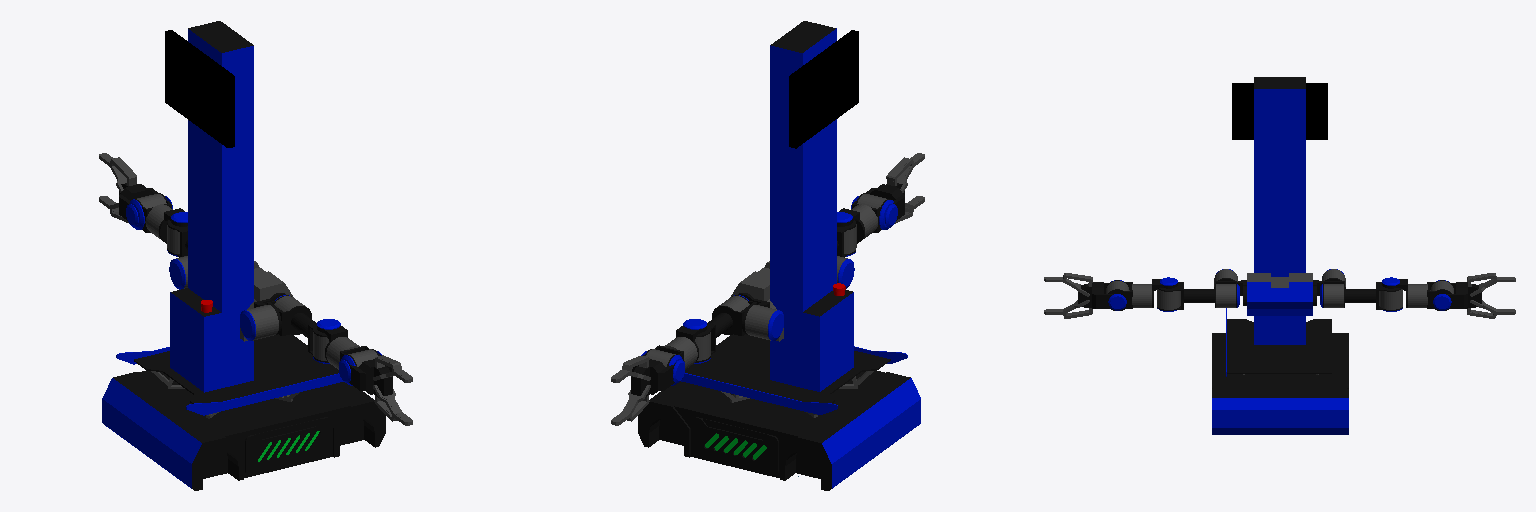
--- Render facts (derived) ---
The picture shows the robot from 3 angles, left to right: view 1: azimuth 30°, elevation 25°; view 2: azimuth 150°, elevation 25°; view 3: azimuth 270°, elevation 25°; orthographic projection.
Robot: wpr2 — 32 links, 31 joints (1 revolute, 16 continuous, 2 prismatic, 12 fixed); root link base_footprint; default pose: every joint at zero.
Visible links, largest first — view 1: base_link, right_link_finger, left_link_finger, right_link_1, right_link_4, left_link_4, right_link_3, chest_link, right_link_6, right_link_2, left_link_3, left_link_5; view 2: base_link, left_link_finger, left_link_1, right_link_finger, left_link_4, left_link_3, right_link_4, chest_link, left_link_2, right_link_6, right_link_5, right_link_3; view 3: base_link, chest_link, right_link_6, left_link_6, left_link_3, right_link_3, left_link_4, right_link_4, left_link_2, right_link_2.
Boxes of the visible links, box(x1,y1,x2,y2) form: base_link: box(102, 21, 385, 490); right_link_finger: box(339, 357, 410, 425); left_link_finger: box(99, 153, 138, 227); right_link_1: box(240, 293, 285, 340); right_link_4: box(317, 319, 359, 369); left_link_4: box(145, 204, 187, 243); right_link_3: box(291, 313, 329, 363); chest_link: box(240, 261, 292, 341); right_link_6: box(366, 351, 412, 425); right_link_2: box(267, 295, 311, 335); left_link_3: box(167, 220, 187, 257); left_link_5: box(130, 193, 171, 232); base_link: box(638, 21, 920, 490); left_link_finger: box(612, 356, 684, 425); left_link_1: box(738, 293, 783, 340); right_link_finger: box(877, 153, 924, 227); left_link_4: box(664, 319, 706, 369); left_link_3: box(694, 313, 732, 363); right_link_4: box(837, 204, 877, 243); chest_link: box(731, 261, 783, 341); left_link_2: box(712, 295, 756, 335); right_link_6: box(851, 153, 923, 214); right_link_5: box(852, 193, 893, 232); right_link_3: box(837, 220, 856, 257); base_link: box(1212, 77, 1348, 434); chest_link: box(1247, 273, 1312, 315); right_link_6: box(1044, 273, 1126, 318); left_link_6: box(1433, 273, 1515, 318); left_link_3: box(1345, 282, 1402, 311); right_link_3: box(1157, 282, 1214, 311); left_link_4: box(1382, 277, 1427, 307); right_link_4: box(1132, 277, 1177, 307); left_link_2: box(1320, 281, 1344, 307); right_link_2: box(1215, 281, 1239, 307).
Bounding box of the posed robot: 0.57 × 1.57 × 1.15 m (x, y, z).
17 mesh visuals loaded from 11 distinct referenced files (9 Collada DAE); not drawn: 4 (file found but could not be loaded).

The robot description file, URDF, robot "wpr2":
<?xml version="1.0" ?>
<!-- =================================================================================== -->
<!-- |    This document was autogenerated by xacro from [local-path]/catkin_ws/src/wpr2/wpr2_description/urdf/wpr2.urdf.xacro | -->
<!-- |    EDITING THIS FILE BY HAND IS NOT RECOMMENDED                                 | -->
<!-- =================================================================================== -->
<robot name="wpr2">
    <material name="black">
        <color rgba="0 0 0 1" />
    </material>
    <!-- base_footprint -->
    <link name="base_footprint">
        <visual>
            <origin rpy="0 0 0" xyz="0 0 0" />
            <geometry>
                <box size="0.001 0.001 0.001" />
            </geometry>
            <material name="TransparentGreen" />
        </visual>
    </link>
    <joint name="base_joint" type="fixed">
        <origin rpy="0 0 0" xyz="0 0 0.02" />
        <parent link="base_footprint" />
        <child link="base_link" />
    </joint>
    <!-- base_link -->
    <link name="base_link">
        <visual>
            <geometry>
                <mesh filename="package://wpr2_description/meshes/base.dae" scale="1 1 1" />
            </geometry>
            <origin rpy="0 0 0" xyz="0.0 0.0 0.13" />
        </visual>
        <visual>
            <geometry>
                <box size="0.02 0.32 0.2" />
            </geometry>
            <origin rpy="0 0 0" xyz="-0.13 0.0 1.0" />
            <material name="black" />
        </visual>
        <!-- 底盘碰撞体 -->
        <collision>
            <origin rpy="0 0 0" xyz="0.005 0 0.07" />
            <geometry>
                <box size="0.57 0.46 0.12" />
            </geometry>
        </collision>
        <!-- 上舱盖 -->
        <collision>
            <origin rpy="0 0 0" xyz="-0.03 0 0.20" />
            <geometry>
                <box size="0.50 0.37 0.04" />
            </geometry>
        </collision>
        <!-- 立柱 -->
        <collision>
            <origin rpy="0 0 0" xyz="-0.07 0 0.68" />
            <geometry>
                <box size="0.10 0.20 0.90" />
            </geometry>
        </collision>
        <!-- 屏幕 -->
        <collision>
            <origin rpy="0 0 0" xyz="-0.13 0.0 1.0" />
            <geometry>
                <box size="0.02 0.32 0.2" />
            </geometry>
        </collision>
        <inertial>
            <mass value="20" />
            <inertia ixx="10" ixy="0.0" ixz="0.0" iyy="10" iyz="0.0" izz="10" />
            <origin xyz="0 0 0" rpy="0 0 0" />
        </inertial>
    </link>
    <link name="front_left_wheel_link">
        <visual>
            <origin rpy="1.570796327 0 0" xyz="0.0 0.06 0.0" />
            <geometry>
                <mesh filename="package://wpr2_description/meshes/mecanum_a.dae" scale="1 1 1" />
            </geometry>
        </visual>
        <collision>
            <origin rpy="1.570796327 0 0" xyz="0 0.029 0" />
            <geometry>
                <cylinder length="0.058" radius="0.001" />
            </geometry>
        </collision>
        <inertial>
            <mass value="0.00001" />
            <inertia ixx="0.1" ixy="0.0" ixz="0.0" iyy="0.1" iyz="0.0" izz="0.1" />
            <origin xyz="0 0 0" rpy="0 0 0" />
        </inertial>
    </link>
    <joint name="front_left_wheel_joint" type="continuous">
        <parent link="base_link" />
        <child link="front_left_wheel_link" />
        <origin rpy="0 0.0 0.0" xyz="0.1975   0.185  0.029" />
        <axis xyz="0 1 0" />
    </joint>
    <transmission name="front_left_transmission">
        <type>transmission_interface/SimpleTransmission</type>
        <joint name="front_left_wheel_joint">
            <hardwareInterface>hardware_interface/PositionJointInterface</hardwareInterface>
        </joint>
        <actuator name="front_left_motor">
            <hardwareInterface>PositionJointInterface</hardwareInterface>
            <mechanicalReduction>1</mechanicalReduction>
        </actuator>
    </transmission>
    <link name="front_right_wheel_link">
        <visual>
            <origin rpy="1.570796327 0 0" xyz="0.0 0.06 0.0" />
            <geometry>
                <mesh filename="package://wpr2_description/meshes/mecanum_b.dae" scale="1 1 1" />
            </geometry>
        </visual>
        <collision>
            <origin rpy="1.570796327 0 0" xyz="0 0.029 0" />
            <geometry>
                <cylinder length="0.058" radius="0.001" />
            </geometry>
        </collision>
        <inertial>
            <mass value="0.00001" />
            <inertia ixx="0.1" ixy="0.0" ixz="0.0" iyy="0.1" iyz="0.0" izz="0.1" />
            <origin xyz="0 0 0" rpy="0 0 0" />
        </inertial>
    </link>
    <joint name="front_right_wheel_joint" type="continuous">
        <parent link="base_link" />
        <child link="front_right_wheel_link" />
        <origin rpy="3.141592653589793 0.0 0.0" xyz="0.1975   -0.185  0.029" />
        <axis xyz="0 1 0" />
    </joint>
    <transmission name="front_right_transmission">
        <type>transmission_interface/SimpleTransmission</type>
        <joint name="front_right_wheel_joint">
            <hardwareInterface>hardware_interface/PositionJointInterface</hardwareInterface>
        </joint>
        <actuator name="front_right_motor">
            <hardwareInterface>PositionJointInterface</hardwareInterface>
            <mechanicalReduction>1</mechanicalReduction>
        </actuator>
    </transmission>
    <link name="back_right_wheel_link">
        <visual>
            <origin rpy="1.570796327 0 0" xyz="0.0 0.06 0.0" />
            <geometry>
                <mesh filename="package://wpr2_description/meshes/mecanum_a.dae" scale="1 1 1" />
            </geometry>
        </visual>
        <collision>
            <origin rpy="1.570796327 0 0" xyz="0 0.029 0" />
            <geometry>
                <cylinder length="0.058" radius="0.001" />
            </geometry>
        </collision>
        <inertial>
            <mass value="0.00001" />
            <inertia ixx="0.1" ixy="0.0" ixz="0.0" iyy="0.1" iyz="0.0" izz="0.1" />
            <origin xyz="0 0 0" rpy="0 0 0" />
        </inertial>
    </link>
    <joint name="back_right_wheel_joint" type="continuous">
        <parent link="base_link" />
        <child link="back_right_wheel_link" />
        <origin rpy="3.141592653589793 0.0 0.0" xyz="-0.1975   -0.185  0.029" />
        <axis xyz="0 1 0" />
    </joint>
    <transmission name="back_right_transmission">
        <type>transmission_interface/SimpleTransmission</type>
        <joint name="back_right_wheel_joint">
            <hardwareInterface>hardware_interface/PositionJointInterface</hardwareInterface>
        </joint>
        <actuator name="back_right_motor">
            <hardwareInterface>PositionJointInterface</hardwareInterface>
            <mechanicalReduction>1</mechanicalReduction>
        </actuator>
    </transmission>
    <link name="back_left_wheel_link">
        <visual>
            <origin rpy="1.570796327 0 0" xyz="0.0 0.06 0.0" />
            <geometry>
                <mesh filename="package://wpr2_description/meshes/mecanum_b.dae" scale="1 1 1" />
            </geometry>
        </visual>
        <collision>
            <origin rpy="1.570796327 0 0" xyz="0 0.029 0" />
            <geometry>
                <cylinder length="0.058" radius="0.001" />
            </geometry>
        </collision>
        <inertial>
            <mass value="0.00001" />
            <inertia ixx="0.1" ixy="0.0" ixz="0.0" iyy="0.1" iyz="0.0" izz="0.1" />
            <origin xyz="0 0 0" rpy="0 0 0" />
        </inertial>
    </link>
    <joint name="back_left_wheel_joint" type="continuous">
        <parent link="base_link" />
        <child link="back_left_wheel_link" />
        <origin rpy="0 0.0 0.0" xyz="-0.1975   0.185  0.029" />
        <axis xyz="0 1 0" />
    </joint>
    <transmission name="back_left_transmission">
        <type>transmission_interface/SimpleTransmission</type>
        <joint name="back_left_wheel_joint">
            <hardwareInterface>hardware_interface/PositionJointInterface</hardwareInterface>
        </joint>
        <actuator name="back_left_motor">
            <hardwareInterface>PositionJointInterface</hardwareInterface>
            <mechanicalReduction>1</mechanicalReduction>
        </actuator>
    </transmission>
    <link name="front_left_foot_link">
        <visual>
            <origin rpy="0 0 0" xyz="0.0 0.0 0.0" />
            <geometry>
                <box size="0.001 0.001 0.001" />
            </geometry>
        </visual>
        <collision>
            <origin rpy="0 0 0" xyz="0 0 0" />
            <geometry>
                <cylinder length="0.01" radius="0.05" />
            </geometry>
        </collision>
        <inertial>
            <mass value="0.1" />
            <inertia ixx="1" ixy="0.0" ixz="0.0" iyy="1" iyz="0.0" izz="1" />
            <origin xyz="0 0 0" rpy="0 0 0" />
        </inertial>
    </link>
    <joint name="front_left_foot_joint" type="fixed">
        <parent link="base_link" />
        <child link="front_left_foot_link" />
        <origin rpy="1.57 0.0 0.0" xyz="0.1975   0.24666666666666667  0.029" />
    </joint>
    <link name="front_right_foot_link">
        <visual>
            <origin rpy="0 0 0" xyz="0.0 0.0 0.0" />
            <geometry>
                <box size="0.001 0.001 0.001" />
            </geometry>
        </visual>
        <collision>
            <origin rpy="0 0 0" xyz="0 0 0" />
            <geometry>
                <cylinder length="0.01" radius="0.05" />
            </geometry>
        </collision>
        <inertial>
            <mass value="0.1" />
            <inertia ixx="1" ixy="0.0" ixz="0.0" iyy="1" iyz="0.0" izz="1" />
            <origin xyz="0 0 0" rpy="0 0 0" />
        </inertial>
    </link>
    <joint name="front_right_foot_joint" type="fixed">
        <parent link="base_link" />
        <child link="front_right_foot_link" />
        <origin rpy="1.57 0.0 0.0" xyz="0.1975   -0.24666666666666667  0.029" />
    </joint>
    <link name="back_right_foot_link">
        <visual>
            <origin rpy="0 0 0" xyz="0.0 0.0 0.0" />
            <geometry>
                <box size="0.001 0.001 0.001" />
            </geometry>
        </visual>
        <collision>
            <origin rpy="0 0 0" xyz="0 0 0" />
            <geometry>
                <cylinder length="0.01" radius="0.05" />
            </geometry>
        </collision>
        <inertial>
            <mass value="0.1" />
            <inertia ixx="1" ixy="0.0" ixz="0.0" iyy="1" iyz="0.0" izz="1" />
            <origin xyz="0 0 0" rpy="0 0 0" />
        </inertial>
    </link>
    <joint name="back_right_foot_joint" type="fixed">
        <parent link="base_link" />
        <child link="back_right_foot_link" />
        <origin rpy="1.57 0.0 0.0" xyz="-0.1975   -0.24666666666666667  0.029" />
    </joint>
    <link name="back_left_foot_link">
        <visual>
            <origin rpy="0 0 0" xyz="0.0 0.0 0.0" />
            <geometry>
                <box size="0.001 0.001 0.001" />
            </geometry>
        </visual>
        <collision>
            <origin rpy="0 0 0" xyz="0 0 0" />
            <geometry>
                <cylinder length="0.01" radius="0.05" />
            </geometry>
        </collision>
        <inertial>
            <mass value="0.1" />
            <inertia ixx="1" ixy="0.0" ixz="0.0" iyy="1" iyz="0.0" izz="1" />
            <origin xyz="0 0 0" rpy="0 0 0" />
        </inertial>
    </link>
    <joint name="back_left_foot_joint" type="fixed">
        <parent link="base_link" />
        <child link="back_left_foot_link" />
        <origin rpy="1.57 0.0 0.0" xyz="-0.1975   0.24666666666666667  0.029" />
    </joint>
    <!-- Lidar -->
    <link name="laser">
        <visual>
            <geometry>
                <cylinder length="0.001" radius="0.001" />
            </geometry>
            <origin rpy="0 0 0" xyz="0 0 0" />
        </visual>
    </link>
    <joint name="laser_joint" type="fixed">
        <origin rpy="0 0 3.1415926" xyz="0 0 0.16" />
        <parent link="base_link" />
        <child link="laser" />
    </joint>
    <!-- Gazebo plugin for RpLidar C1 -->
    <gazebo reference="laser">
        <sensor name="rplidar_sensor" type="ray">
            <pose>0 0 0.06 0 0 0</pose>
            <visualize>false</visualize>
            <update_rate>10</update_rate>
            <ray>
                <scan>
                    <horizontal>
                        <samples>720</samples>
                        <resolution>1</resolution>
                        <min_angle>-3.14159265</min_angle>
                        <max_angle>3.14159265</max_angle>
                    </horizontal>
                </scan>
                <range>
                    <min>0.02</min>
                    <max>10.0</max>
                    <resolution>0.01</resolution>
                </range>
                <!-- <noise>
          <type>gaussian</type>
          <mean>0.0</mean>
          <stddev>0.01</stddev>
        </noise> -->
            </ray>
            <plugin filename="libgazebo_ros_laser.so" name="rplidar_ros_controller">
                <topicName>scan_raw</topicName>
                <frameName>laser</frameName>
            </plugin>
        </sensor>
        <plugin name="gazebo_ros_control" filename="libgazebo_ros_control.so">
            <robotNamespace>/</robotNamespace>
        </plugin>
    </gazebo>
    <link name="chest_link">
        <visual>
            <geometry>
                <mesh filename="package://wpr2_description/meshes/chest.dae" scale=" 1 1 1 " />
            </geometry>
            <origin rpy="0 0 0" xyz="0.015 0.0 0.01" />
        </visual>
        <collision>
            <origin rpy="0 0 0" xyz="0.04 0 -0.01" />
            <geometry>
                <box size="0.1 0.22 0.15" />
            </geometry>
        </collision>
        <inertial>
            <mass value="1" />
            <inertia ixx="0.1" ixy="0.0" ixz="0.0" iyy="0.1" iyz="0.0" izz="0.01" />
            <origin xyz="0 0 0" rpy="0 0 0" />
        </inertial>
    </link>
    <joint name="chest_height" type="prismatic">
        <parent link="base_link" />
        <child link="chest_link" />
        <limit effort="1000.0" lower="0" upper="0.7" velocity="0.5" />
        <dynamics damping="0.0" friction="0.0" />
        <origin rpy="0 0 0" xyz="0.0 0 0.4" />
        <axis xyz="0 0 1" />
    </joint>
    <transmission name="chest_height_transmission">
        <type>transmission_interface/SimpleTransmission</type>
        <joint name="chest_height">
            <hardwareInterface>hardware_interface/PositionJointInterface</hardwareInterface>
        </joint>
        <actuator name="chest_height_motor">
            <hardwareInterface>PositionJointInterface</hardwareInterface>
            <mechanicalReduction>1</mechanicalReduction>
        </actuator>
    </transmission>
    <!-- Camera -->
    <link name="femto_base">
        <visual>
            <origin rpy="0 0 0" xyz="0 0 0" />
            <geometry>
                <!-- <box size=".1 .25 .07"/> -->
                <box size="0 0 0" />
            </geometry>
        </visual>
        <inertial>
            <mass value="0.1" />
            <inertia ixx="0.1" ixy="0.0" ixz="0.0" iyy="0.1" iyz="0.0" izz="0.01" />
        </inertial>
    </link>
    <joint name="femto_height" type="prismatic">
        <parent link="chest_link" />
        <child link="femto_base" />
        <limit effort="1000.0" lower="0" upper="0.1" velocity="0.5" />
        <origin rpy="0 -1.5707963 0" xyz="0.05 0 0" />
    </joint>
    <transmission name="femto_height_transmission">
        <type>transmission_interface/SimpleTransmission</type>
        <joint name="femto_height">
            <hardwareInterface>hardware_interface/PositionJointInterface</hardwareInterface>
        </joint>
        <actuator name="femto_height_motor">
            <hardwareInterface>PositionJointInterface</hardwareInterface>
            <mechanicalReduction>1</mechanicalReduction>
        </actuator>
    </transmission>
    <link name="camera_link">
        <visual>
            <origin rpy="0 0 0" xyz="0 0 0" />
            <geometry>
                <mesh filename="package://wpr2_description/meshes/femto_bolt.dae" scale="1 1 1" />
            </geometry>
        </visual>
        <collision>
            <origin rpy="0 0 0" xyz="-0.015 0 0" />
            <geometry>
                <box size="0.05 0.1 0.04" />
            </geometry>
        </collision>
        <inertial>
            <mass value="1" />
            <inertia ixx="0.1" ixy="0.0" ixz="0.0" iyy="0.1" iyz="0.0" izz="0.01" />
            <origin xyz="0 0 0" rpy="0 0 0" />
        </inertial>
    </link>
    <joint name="femto_pitch" type="revolute">
        <axis xyz="0 -1 0" />
        <limit effort="1000.0" lower="-1.57" upper="1.57" velocity="0.5" />
        <origin rpy="0 1.57 0" xyz="0 0 0" />
        <parent link="femto_base" />
        <child link="camera_link" />
    </joint>
    <transmission name="femto_pitch_transmission">
        <type>transmission_interface/SimpleTransmission</type>
        <joint name="femto_pitch">
            <hardwareInterface>hardware_interface/PositionJointInterface</hardwareInterface>
        </joint>
        <actuator name="femto_pitch_motor">
            <hardwareInterface>PositionJointInterface</hardwareInterface>
            <mechanicalReduction>1</mechanicalReduction>
        </actuator>
    </transmission>
    <!-- joint 0 -->
    <link name="left_link_0" />
    <joint name="left_joint_0" type="fixed">
        <parent link="chest_link" />
        <child link="left_link_0" />
        <origin rpy="0 3.141592653589793 0" xyz="0.035 0.18 0.0" />
    </joint>
    <!-- joint 1 -->
    <link name="left_link_1">
        <visual>
            <geometry>
                <mesh filename="package://wpr2_description/meshes/arm/arm_link_1.dae" scale="1 1 1" />
            </geometry>
            <origin rpy="-1.5707963267948966 0 1.5707963267948966" xyz="0 -0.07 0" />
        </visual>
        <collision>
            <origin rpy="0 1.5707963267948966 0" xyz="0.09 0 0" />
            <geometry>
                <cylinder length="0.07" radius="0.041" />
            </geometry>
        </collision>
        <inertial>
            <mass value="0.1" />
            <inertia ixx="0.1" ixy="0.0" ixz="0.0" iyy="0.1" iyz="0.0" izz="0.01" />
            <origin xyz="0 0 0" rpy="0 0 0" />
        </inertial>
    </link>
    <joint name="left_joint_1" type="continuous">
        <parent link="left_link_0" />
        <child link="left_link_1" />
        <origin rpy="0 0 0" xyz="0.0 0 0.0" />
        <axis xyz="0 1 0" />
    </joint>
    <transmission name="left_joint_1_transmission">
        <type>transmission_interface/SimpleTransmission</type>
        <joint name="left_joint_1">
            <hardwareInterface>hardware_interface/PositionJointInterface</hardwareInterface>
        </joint>
        <actuator name="left_joint_1_motor">
            <hardwareInterface>PositionJointInterface</hardwareInterface>
            <mechanicalReduction>1</mechanicalReduction>
        </actuator>
    </transmission>
    <!-- joint 2 -->
    <link name="left_link_2">
        <visual>
            <geometry>
                <mesh filename="package://wpr2_description/meshes/arm/arm_link_2.dae" scale="1 1 1" />
            </geometry>
            <origin rpy="3.141592653589793 3.141592653589793 0" xyz="0 0 0" />
        </visual>
        <collision>
            <origin rpy="-1.5707963267948966 0 0" xyz="0 0.05 0 " />
            <geometry>
                <cylinder length="0.18" radius="0.041" />
            </geometry>
        </collision>
        <inertial>
            <mass value="0.1" />
            <inertia ixx="0.1" ixy="0.0" ixz="0.0" iyy="0.1" iyz="0.0" izz="0.01" />
            <origin xyz="0 0 0" rpy="0 0 0" />
        </inertial>
    </link>
    <joint name="left_joint_2" type="continuous">
        <parent link="left_link_1" />
        <child link="left_link_2" />
        <origin rpy="0 3.141592653589793 0" xyz="0 0 0 " />
        <axis xyz="1 0 0" />
    </joint>
    <transmission name="left_joint_2_transmission">
        <type>transmission_interface/SimpleTransmission</type>
        <joint name="left_joint_2">
            <hardwareInterface>hardware_interface/PositionJointInterface</hardwareInterface>
        </joint>
        <actuator name="left_joint_2_motor">
            <hardwareInterface>PositionJointInterface</hardwareInterface>
            <mechanicalReduction>1</mechanicalReduction>
        </actuator>
    </transmission>
    <!-- joint 3 -->
    <link name="left_link_3">
        <visual>
            <geometry>
                <mesh filename="package://wpr2_description/meshes/arm/arm_link_3.dae" scale="1 1 1" />
            </geometry>
            <origin rpy="-1.5707963267948966 0 -1.5707963267948966" xyz="0 0.19 0" />
        </visual>
        <collision>
            <origin rpy="0 0 0" xyz="0 0.19 0" />
            <geometry>
                <cylinder length="0.12" radius="0.041" />
            </geometry>
        </collision>
        <inertial>
            <mass value="0.1" />
            <inertia ixx="0.1" ixy="0.0" ixz="0.0" iyy="0.1" iyz="0.0" izz="0.01" />
            <origin xyz="0 0 0" rpy="0 0 0" />
        </inertial>
    </link>
    <joint name="left_joint_3" type="continuous">
        <parent link="left_link_2" />
        <child link="left_link_3" />
        <origin rpy="0 0 0" xyz="0 0 0 " />
        <axis xyz="0 1 0" />
    </joint>
    <transmission name="left_joint_3_transmission">
        <type>transmission_interface/SimpleTransmission</type>
        <joint name="left_joint_3">
            <hardwareInterface>hardware_interface/PositionJointInterface</hardwareInterface>
        </joint>
        <actuator name="left_joint_3_motor">
            <hardwareInterface>PositionJointInterface</hardwareInterface>
            <mechanicalReduction>1</mechanicalReduction>
        </actuator>
    </transmission>
    <!-- joint 4 -->
    <link name="left_link_4">
        <visual>
            <geometry>
                <mesh filename="package://wpr2_description/meshes/arm/arm_link_4.dae" scale="1 1 1" />
            </geometry>
            <origin rpy="1.5707963267948966 1.5707963267948966 0" xyz="0 0 0.051" />
        </visual>
        <collision>
            <origin rpy="1.5707963267948966  0 0" xyz="0 0.09 0" />
            <geometry>
                <cylinder length="0.07" radius="0.041" />
            </geometry>
        </collision>
        <inertial>
            <mass value="0.1" />
            <inertia ixx="0.1" ixy="0.0" ixz="0.0" iyy="0.1" iyz="0.0" izz="0.01" />
            <origin xyz="0 0 0" rpy="0 0 0" />
        </inertial>
    </link>
    <joint name="left_joint_4" type="continuous">
        <parent link="left_link_3" />
        <child link="left_link_4" />
        <origin rpy="0 0 0" xyz="0 0.19 0" />
        <axis xyz="0 0 1" />
    </joint>
    <transmission name="left_joint_4_transmission">
        <type>transmission_interface/SimpleTransmission</type>
        <joint name="left_joint_4">
            <hardwareInterface>hardware_interface/PositionJointInterface</hardwareInterface>
        </joint>
        <actuator name="left_joint_4_motor">
            <hardwareInterface>PositionJointInterface</hardwareInterface>
            <mechanicalReduction>1</mechanicalReduction>
        </actuator>
    </transmission>
    <!-- joint 5 -->
    <link name="left_link_5">
        <visual>
            <geometry>
                <mesh filename="package://wpr2_description/meshes/arm/arm_link_5.dae" scale="1 1 1" />
            </geometry>
            <origin rpy="-1.5707963267948966 0 -1.5707963267948966" xyz="0 0 0" />
        </visual>
        <collision>
            <origin rpy="0 0 0" xyz="0 0 0" />
            <geometry>
                <cylinder length="0.12" radius="0.041" />
            </geometry>
        </collision>
        <inertial>
            <mass value="0.1" />
            <inertia ixx="0.1" ixy="0.0" ixz="0.0" iyy="0.1" iyz="0.0" izz="0.01" />
            <origin xyz="0 0 0" rpy="0 0 0" />
        </inertial>
    </link>
    <joint name="left_joint_5" type="continuous">
        <parent link="left_link_4" />
        <child link="left_link_5" />
        <origin rpy="0 1.5707963267948966 0" xyz="0 0.17 0" />
        <axis xyz="0 1 0" />
    </joint>
    <transmission name="left_joint_5_transmission">
        <type>transmission_interface/SimpleTransmission</type>
        <joint name="left_joint_5">
            <hardwareInterface>hardware_interface/PositionJointInterface</hardwareInterface>
        </joint>
        <actuator name="left_joint_5_motor">
            <hardwareInterface>PositionJointInterface</hardwareInterface>
            <mechanicalReduction>1</mechanicalReduction>
        </actuator>
    </transmission>
    <!-- joint 6 palm -->
    <link name="left_link_6">
        <visual>
            <geometry>
                <mesh filename="package://wpr2_description/meshes/arm/arm_link_palm.dae" scale="1 1 1" />
            </geometry>
            <origin rpy="-1.5707963267948966 1.5707963267948966  0" xyz="0 0 0.05" />
        </visual>
        <inertial>
            <mass value="0.1" />
            <inertia ixx="0.1" ixy="0.0" ixz="0.0" iyy="0.1" iyz="0.0" izz="0.01" />
        </inertial>
    </link>
    <joint name="left_joint_6" type="continuous">
        <parent link="left_link_5" />
        <child link="left_link_6" />
        <origin rpy="0 0 0" xyz="0 0 0" />
        <axis xyz="0 0 1" />
    </joint>
    <transmission name="left_joint_6_transmission">
        <type>transmission_interface/SimpleTransmission</type>
        <joint name="left_joint_6">
            <hardwareInterface>hardware_interface/PositionJointInterface</hardwareInterface>
        </joint>
        <actuator name="left_joint_6_motor">
            <hardwareInterface>PositionJointInterface</hardwareInterface>
            <mechanicalReduction>1</mechanicalReduction>
        </actuator>
    </transmission>
    <link name="left_link_finger">
        <visual>
            <geometry>
                <mesh filename="package://wpr2_description/meshes/arm/arm_link_palm.dae" scale="1 1 1" />
            </geometry>
            <origin rpy="-1.5707963267948966 -1.5707963267948966 0" xyz="0 0 -0.05" />
        </visual>
        <inertial>
            <mass value="0.1" />
            <inertia ixx="0.1" ixy="0.0" ixz="0.0" iyy="0.1" iyz="0.0" izz="0.01" />
        </inertial>
    </link>
    <joint name="left_joint_finger" type="fixed">
        <parent link="left_link_6" />
        <child link="left_link_finger" />
        <origin rpy="0 0 0" xyz="0 0 0" />
    </joint>
    <!-- finger 0-->
    <!-- <link name="left_finger_0">
      <visual>
        <geometry>
          <box size="0.02 0.02 0.08"/>
        </geometry>
        <origin rpy="0 0 0" xyz="0 0 -0.04"/>
        <material name="white"/>
      </visual>
    </link>
    <joint name="left_finger_joint" type="prismatic">
      <parent link="left_link_5"/>
      <child link="left_finger_0"/>
      <origin xyz="0 0 -0.325"/>
      <axis xyz="0 1 0"/>
      <limit effort="1000.0" lower="0" upper="0.05" velocity="0.5"/>
    </joint> -->
    <!-- finger 1-->
    <!-- <link name="left_finger_1">
      <visual>
        <geometry>
          <box size="0.02 0.02 0.08"/>
        </geometry>
        <origin rpy="0 0 0" xyz="0 0 -0.04"/>
        <material name="white"/>
      </visual>
    </link>
    <joint name="left_finger_joint_1" type="prismatic">
      <parent link="left_link_5"/>
      <child link="left_finger_1"/>
      <origin xyz="0 0 -0.325"/>
      <axis xyz="0 -1 0"/>
      <limit effort="1000.0" lower="0" upper="0.05" velocity="0.5"/>
      <mimic joint="left_finger_joint" multiplier="1" offset="0"/>
    </joint> -->
    <!-- TCP(Tool Center Point) -->
    <link name="left_tcp_link">
        <inertial>
            <mass value="0.001" />
            <origin rpy="0 0 0" xyz="0 0 0" />
            <inertia ixx="0.0001" ixy="0" ixz="0" iyy="0.0001" iyz="0" izz="0.0001" />
        </inertial>
        <!-- 手爪根部 -->
        <collision>
            <origin rpy="0 0 0" xyz="0.0 -0.13 0.0" />
            <geometry>
                <box size="0.08 0.05 0.1" />
            </geometry>
        </collision>
        <!-- 手指活动范围 -->
        <collision>
            <origin rpy="0 0 0" xyz="0.0 -0.028 0.0" />
            <geometry>
                <box size="0.18 0.15 0.04" />
            </geometry>
        </collision>
    </link>
    <joint name="left_tcp_joint" type="fixed">
        <parent link="left_link_6" />
        <child link="left_tcp_link" />
        <origin rpy="0 0 0" xyz="0 0.2 0" />
    </joint>
    <!-- joint 0 -->
    <link name="right_link_0" />
    <joint name="right_joint_0" type="fixed">
        <parent link="chest_link" />
        <child link="right_link_0" />
        <origin rpy="0 0 3.141592653589793" xyz="0.035 -0.18 0.0" />
    </joint>
    <!-- joint 1 -->
    <link name="right_link_1">
        <visual>
            <geometry>
                <mesh filename="package://wpr2_description/meshes/arm/arm_link_1.dae" scale="1 1 1" />
            </geometry>
            <origin rpy="-1.5707963267948966 0 1.5707963267948966" xyz="0 -0.07 0" />
        </visual>
        <collision>
            <origin rpy="0 1.5707963267948966 0" xyz="0.09 0 0" />
            <geometry>
                <cylinder length="0.07" radius="0.041" />
            </geometry>
        </collision>
        <inertial>
            <mass value="0.1" />
            <inertia ixx="0.1" ixy="0.0" ixz="0.0" iyy="0.1" iyz="0.0" izz="0.01" />
            <origin xyz="0 0 0" rpy="0 0 0" />
        </inertial>
    </link>
    <joint name="right_joint_1" type="continuous">
        <parent link="right_link_0" />
        <child link="right_link_1" />
        <origin rpy="0 0 0" xyz="0.0 0 0.0" />
        <axis xyz="0 1 0" />
    </joint>
    <transmission name="right_joint_1_transmission">
        <type>transmission_interface/SimpleTransmission</type>
        <joint name="right_joint_1">
            <hardwareInterface>hardware_interface/PositionJointInterface</hardwareInterface>
        </joint>
        <actuator name="right_joint_1_motor">
            <hardwareInterface>PositionJointInterface</hardwareInterface>
            <mechanicalReduction>1</mechanicalReduction>
        </actuator>
    </transmission>
    <!-- joint 2 -->
    <link name="right_link_2">
        <visual>
            <geometry>
                <mesh filename="package://wpr2_description/meshes/arm/arm_link_2.dae" scale="1 1 1" />
            </geometry>
            <origin rpy="3.141592653589793 3.141592653589793 0" xyz="0 0 0" />
        </visual>
        <collision>
            <origin rpy="-1.5707963267948966 0 0" xyz="0 0.05 0 " />
            <geometry>
                <cylinder length="0.18" radius="0.041" />
            </geometry>
        </collision>
        <inertial>
            <mass value="0.1" />
            <inertia ixx="0.1" ixy="0.0" ixz="0.0" iyy="0.1" iyz="0.0" izz="0.01" />
            <origin xyz="0 0 0" rpy="0 0 0" />
        </inertial>
    </link>
    <joint name="right_joint_2" type="continuous">
        <parent link="right_link_1" />
        <child link="right_link_2" />
        <origin rpy="0 3.141592653589793 0" xyz="0 0 0 " />
        <axis xyz="1 0 0" />
    </joint>
    <transmission name="right_joint_2_transmission">
        <type>transmission_interface/SimpleTransmission</type>
        <joint name="right_joint_2">
            <hardwareInterface>hardware_interface/PositionJointInterface</hardwareInterface>
        </joint>
        <actuator name="right_joint_2_motor">
            <hardwareInterface>PositionJointInterface</hardwareInterface>
            <mechanicalReduction>1</mechanicalReduction>
        </actuator>
    </transmission>
    <!-- joint 3 -->
    <link name="right_link_3">
        <visual>
            <geometry>
                <mesh filename="package://wpr2_description/meshes/arm/arm_link_3.dae" scale="1 1 1" />
            </geometry>
            <origin rpy="1.5707963267948966 0 -1.5707963267948966" xyz="0 0.19 0" />
        </visual>
        <collision>
            <origin rpy="0 0 0" xyz="0 0.19 0" />
            <geometry>
                <cylinder length="0.12" radius="0.041" />
            </geometry>
        </collision>
        <inertial>
            <mass value="0.1" />
            <inertia ixx="0.1" ixy="0.0" ixz="0.0" iyy="0.1" iyz="0.0" izz="0.01" />
            <origin xyz="0 0 0" rpy="0 0 0" />
        </inertial>
    </link>
    <joint name="right_joint_3" type="continuous">
        <parent link="right_link_2" />
        <child link="right_link_3" />
        <origin rpy="0 0 0" xyz="0 0 0 " />
        <axis xyz="0 1 0" />
    </joint>
    <transmission name="right_joint_3_transmission">
        <type>transmission_interface/SimpleTransmission</type>
        <joint name="right_joint_3">
            <hardwareInterface>hardware_interface/PositionJointInterface</hardwareInterface>
        </joint>
        <actuator name="right_joint_3_motor">
            <hardwareInterface>PositionJointInterface</hardwareInterface>
            <mechanicalReduction>1</mechanicalReduction>
        </actuator>
    </transmission>
    <!-- joint 4 -->
    <link name="right_link_4">
        <visual>
            <geometry>
                <mesh filename="package://wpr2_description/meshes/arm/arm_link_4.dae" scale="1 1 1" />
            </geometry>
            <origin rpy="1.5707963267948966 1.5707963267948966 0" xyz="0 0 0.051" />
        </visual>
        <collision>
            <origin rpy="1.5707963267948966  0 0" xyz="0 0.09 0" />
            <geometry>
                <cylinder length="0.07" radius="0.041" />
            </geometry>
        </collision>
        <inertial>
            <mass value="0.1" />
            <inertia ixx="0.1" ixy="0.0" ixz="0.0" iyy="0.1" iyz="0.0" izz="0.01" />
            <origin xyz="0 0 0" rpy="0 0 0" />
        </inertial>
    </link>
    <joint name="right_joint_4" type="continuous">
        <parent link="right_link_3" />
        <child link="right_link_4" />
        <origin rpy="0 3.141592653589793 0" xyz="0 0.19 0" />
        <axis xyz="0 0 1" />
    </joint>
    <transmission name="right_joint_4_transmission">
        <type>transmission_interface/SimpleTransmission</type>
        <joint name="right_joint_4">
            <hardwareInterface>hardware_interface/PositionJointInterface</hardwareInterface>
        </joint>
        <actuator name="right_joint_4_motor">
            <hardwareInterface>PositionJointInterface</hardwareInterface>
            <mechanicalReduction>1</mechanicalReduction>
        </actuator>
    </transmission>
    <!-- joint 5 -->
    <link name="right_link_5">
        <visual>
            <geometry>
                <mesh filename="package://wpr2_description/meshes/arm/arm_link_5.dae" scale="1 1 1" />
            </geometry>
            <origin rpy="-1.5707963267948966 0 -1.5707963267948966" xyz="0 0 0" />
        </visual>
        <collision>
            <origin rpy="0 0 0" xyz="0 0 0" />
            <geometry>
                <cylinder length="0.12" radius="0.041" />
            </geometry>
        </collision>
        <inertial>
            <mass value="0.1" />
            <inertia ixx="0.1" ixy="0.0" ixz="0.0" iyy="0.1" iyz="0.0" izz="0.01" />
            <origin xyz="0 0 0" rpy="0 0 0" />
        </inertial>
    </link>
    <joint name="right_joint_5" type="continuous">
        <parent link="right_link_4" />
        <child link="right_link_5" />
        <origin rpy="0 -1.5707963267948966 0" xyz="0 0.17 0" />
        <axis xyz="0 1 0" />
    </joint>
    <transmission name="right_joint_5_transmission">
        <type>transmission_interface/SimpleTransmission</type>
        <joint name="right_joint_5">
            <hardwareInterface>hardware_interface/PositionJointInterface</hardwareInterface>
        </joint>
        <actuator name="right_joint_5_motor">
            <hardwareInterface>PositionJointInterface</hardwareInterface>
            <mechanicalReduction>1</mechanicalReduction>
        </actuator>
    </transmission>
    <!-- joint 6 palm -->
    <link name="right_link_6">
        <visual>
            <geometry>
                <mesh filename="package://wpr2_description/meshes/arm/arm_link_palm.dae" scale="1 1 1" />
            </geometry>
            <origin rpy="-1.5707963267948966 1.5707963267948966  0" xyz="0 0 0.05" />
        </visual>
        <inertial>
            <mass value="0.1" />
            <inertia ixx="0.1" ixy="0.0" ixz="0.0" iyy="0.1" iyz="0.0" izz="0.01" />
        </inertial>
    </link>
    <joint name="right_joint_6" type="continuous">
        <parent link="right_link_5" />
        <child link="right_link_6" />
        <origin rpy="0 0 0" xyz="0 0 0" />
        <axis xyz="0 0 1" />
    </joint>
    <transmission name="right_joint_6_transmission">
        <type>transmission_interface/SimpleTransmission</type>
        <joint name="right_joint_6">
            <hardwareInterface>hardware_interface/PositionJointInterface</hardwareInterface>
        </joint>
        <actuator name="right_joint_6_motor">
            <hardwareInterface>PositionJointInterface</hardwareInterface>
            <mechanicalReduction>1</mechanicalReduction>
        </actuator>
    </transmission>
    <link name="right_link_finger">
        <visual>
            <geometry>
                <mesh filename="package://wpr2_description/meshes/arm/arm_link_palm.dae" scale="1 1 1" />
            </geometry>
            <origin rpy="-1.5707963267948966 -1.5707963267948966 0" xyz="0 0 -0.05" />
        </visual>
        <inertial>
            <mass value="0.1" />
            <inertia ixx="0.1" ixy="0.0" ixz="0.0" iyy="0.1" iyz="0.0" izz="0.01" />
        </inertial>
    </link>
    <joint name="right_joint_finger" type="fixed">
        <parent link="right_link_6" />
        <child link="right_link_finger" />
        <origin rpy="0 0 0" xyz="0 0 0" />
    </joint>
    <!-- finger 0-->
    <!-- <link name="right_finger_0">
      <visual>
        <geometry>
          <box size="0.02 0.02 0.08"/>
        </geometry>
        <origin rpy="0 0 0" xyz="0 0 -0.04"/>
        <material name="white"/>
      </visual>
    </link>
    <joint name="right_finger_joint" type="prismatic">
      <parent link="right_link_5"/>
      <child link="right_finger_0"/>
      <origin xyz="0 0 -0.325"/>
      <axis xyz="0 1 0"/>
      <limit effort="1000.0" lower="0" upper="0.05" velocity="0.5"/>
    </joint> -->
    <!-- finger 1-->
    <!-- <link name="right_finger_1">
      <visual>
        <geometry>
          <box size="0.02 0.02 0.08"/>
        </geometry>
        <origin rpy="0 0 0" xyz="0 0 -0.04"/>
        <material name="white"/>
      </visual>
    </link>
    <joint name="right_finger_joint_1" type="prismatic">
      <parent link="right_link_5"/>
      <child link="right_finger_1"/>
      <origin xyz="0 0 -0.325"/>
      <axis xyz="0 -1 0"/>
      <limit effort="1000.0" lower="0" upper="0.05" velocity="0.5"/>
      <mimic joint="right_finger_joint" multiplier="1" offset="0"/>
    </joint> -->
    <!-- TCP(Tool Center Point) -->
    <link name="right_tcp_link">
        <inertial>
            <mass value="0.001" />
            <origin rpy="0 0 0" xyz="0 0 0" />
            <inertia ixx="0.0001" ixy="0" ixz="0" iyy="0.0001" iyz="0" izz="0.0001" />
        </inertial>
        <!-- 手爪根部 -->
        <collision>
            <origin rpy="0 0 0" xyz="0.0 -0.13 0.0" />
            <geometry>
                <box size="0.08 0.05 0.1" />
            </geometry>
        </collision>
        <!-- 手指活动范围 -->
        <collision>
            <origin rpy="0 0 0" xyz="0.0 -0.028 0.0" />
            <geometry>
                <box size="0.18 0.15 0.04" />
            </geometry>
        </collision>
    </link>
    <joint name="right_tcp_joint" type="fixed">
        <parent link="right_link_6" />
        <child link="right_tcp_link" />
        <origin rpy="0 0 0" xyz="0 0.2 0" />
    </joint>
    <gazebo>
        <plugin filename="libgazebo_ros_control.so" name="gazebo_ros_control">
            <robotNamespace>/wpr2</robotNamespace>
            <robotSimType>gazebo_ros_control/DefaultRobotHWSim</robotSimType>
            <legacyModeNS>true</legacyModeNS>
        </plugin>
    </gazebo>
</robot>
